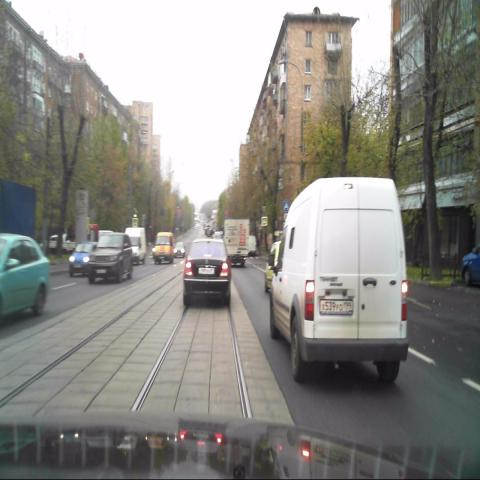5_20: (283, 201, 289, 211)
